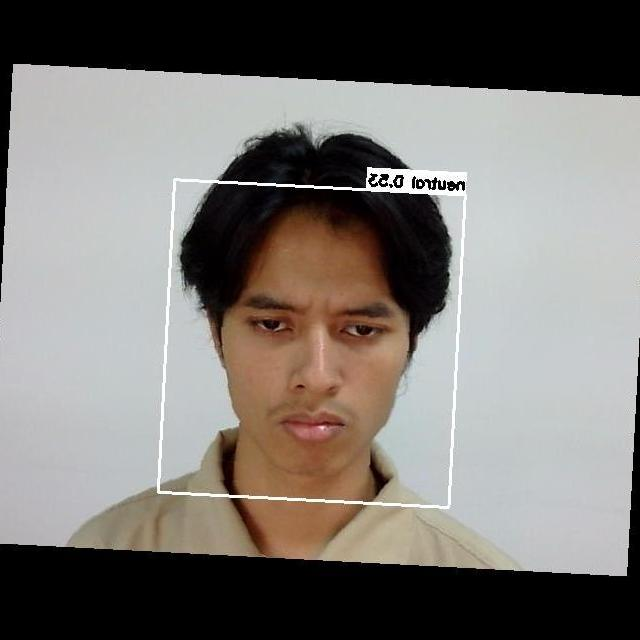Sad: (215, 267, 407, 451)
